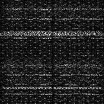lte: (1, 30, 104, 36), (1, 86, 104, 90)
